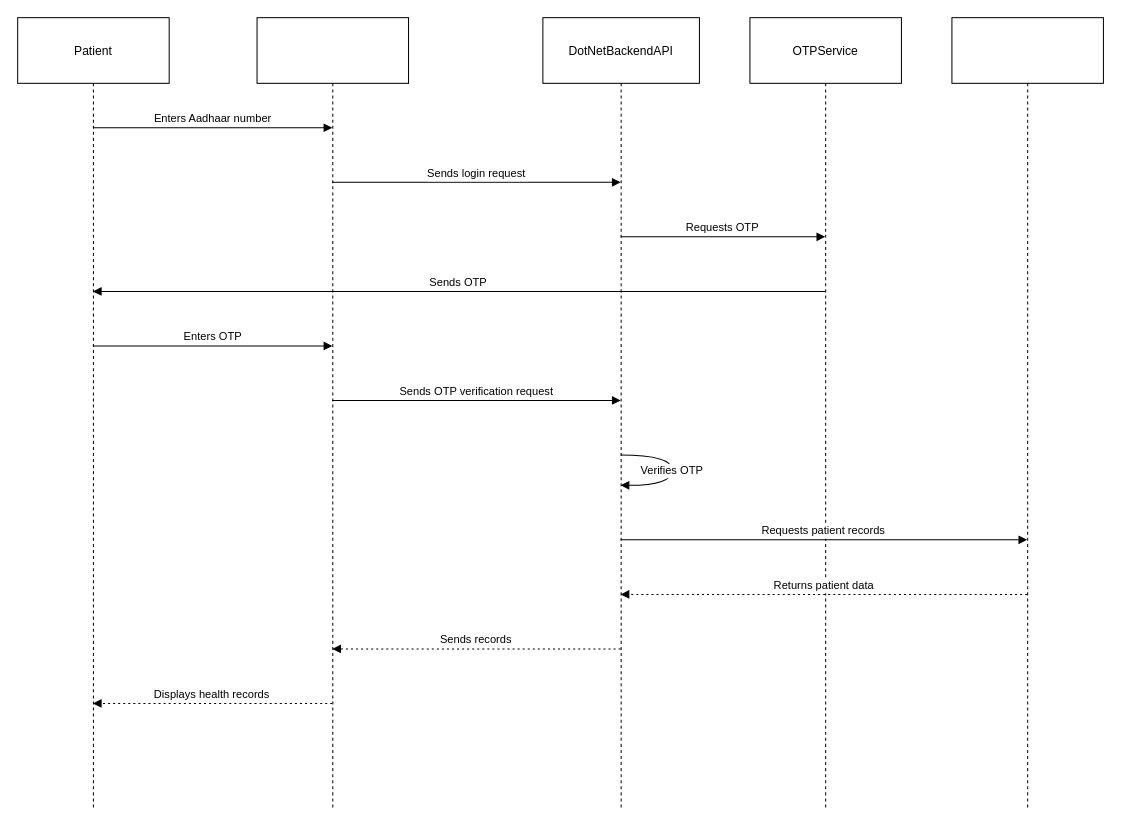
The diagram is 1121 pixels wide and 827 high, and some of its shapes have lost their labels. The shapes that lost their labels are listed below. From the top down, each one's box as (x1, y1, x2, y2) in pixels, then its label:
(256, 17, 409, 810): ReactFrontend
(951, 17, 1103, 810): Database
